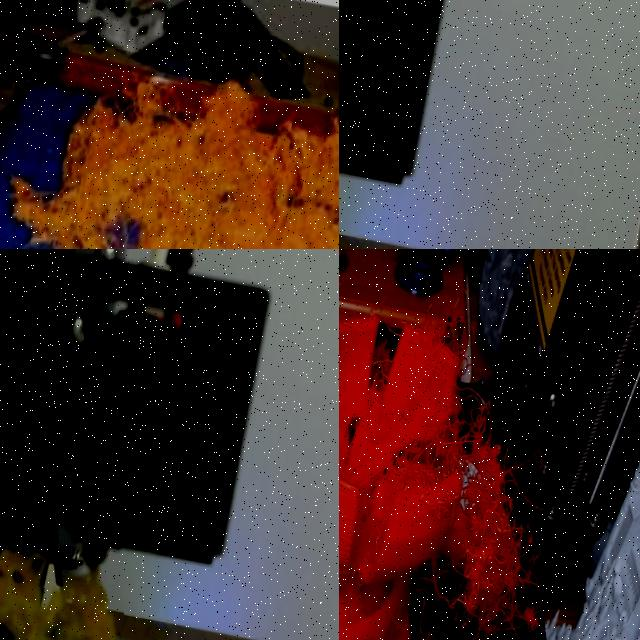spaghetti: (355, 345, 576, 640), (4, 65, 339, 249), (0, 547, 115, 640)
